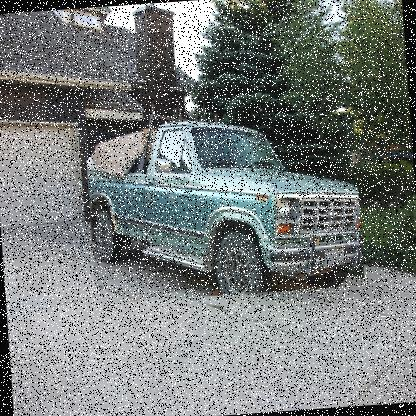Car: (82, 76, 366, 305), (352, 148, 414, 184)
